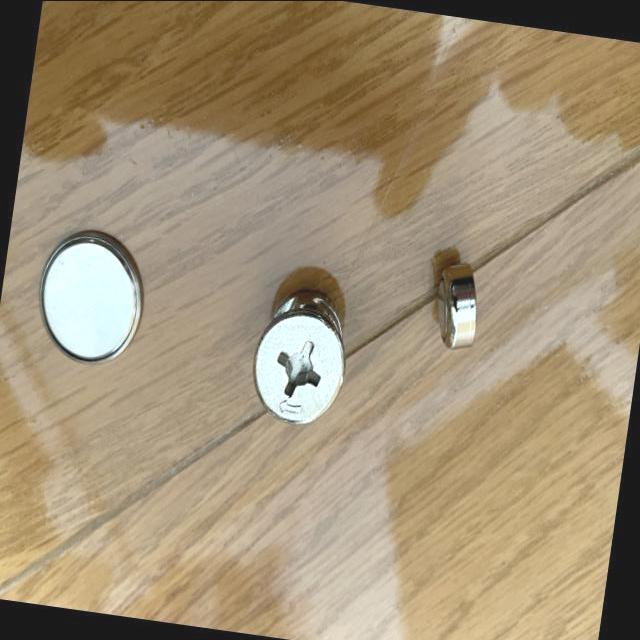COIN: (28, 224, 152, 370), (427, 258, 486, 350)
